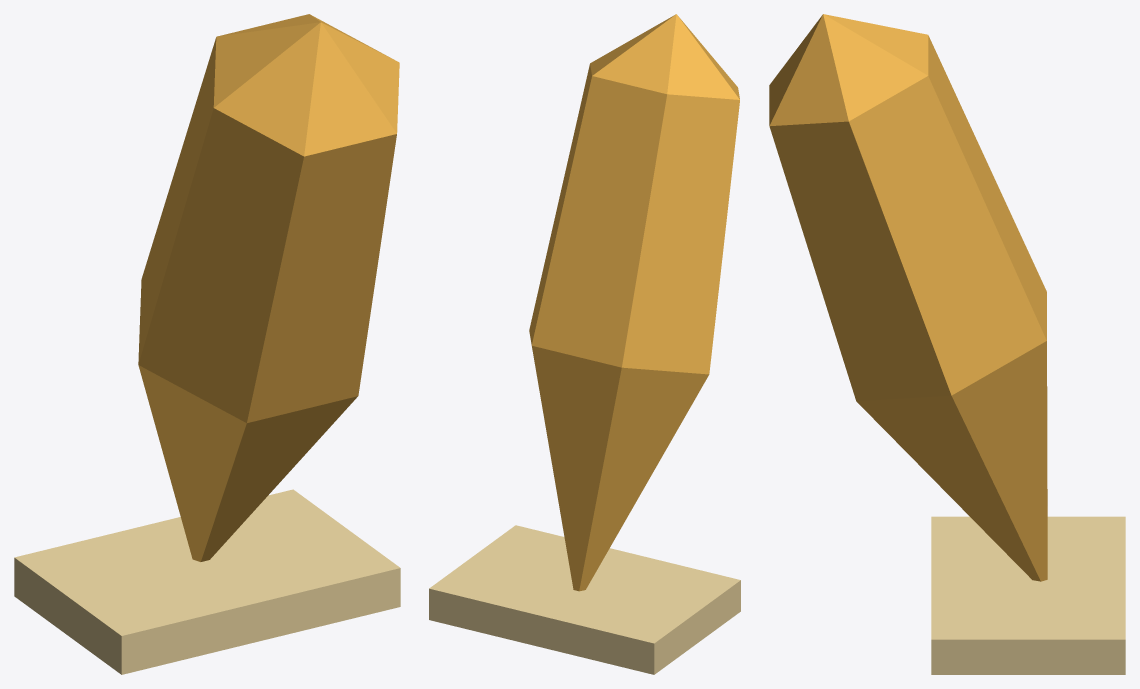
File: surfboard.glb
3 views of the same model, side by side, from view 1: azimuth 30°, elevation 25°; view 2: azimuth 150°, elevation 25°; view 3: azimuth 270°, elevation 25° (orthographic). The views are drawn at different scales.
Visible parts, largest first — view 1: jungle-surfboard; view 2: jungle-surfboard; view 3: jungle-surfboard.
Part boxes in pixels (<box>): jungle-surfboard: <box>14,14,400,674</box>; jungle-surfboard: <box>429,14,740,674</box>; jungle-surfboard: <box>769,14,1125,674</box>.
Bounding box in the file's own units: 0.3 × 0.6807 × 0.3666.
